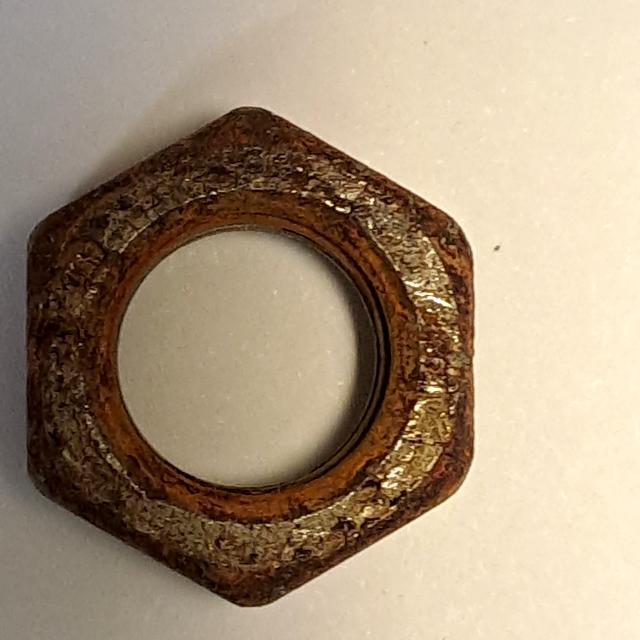Rust: (15, 74, 493, 623)
